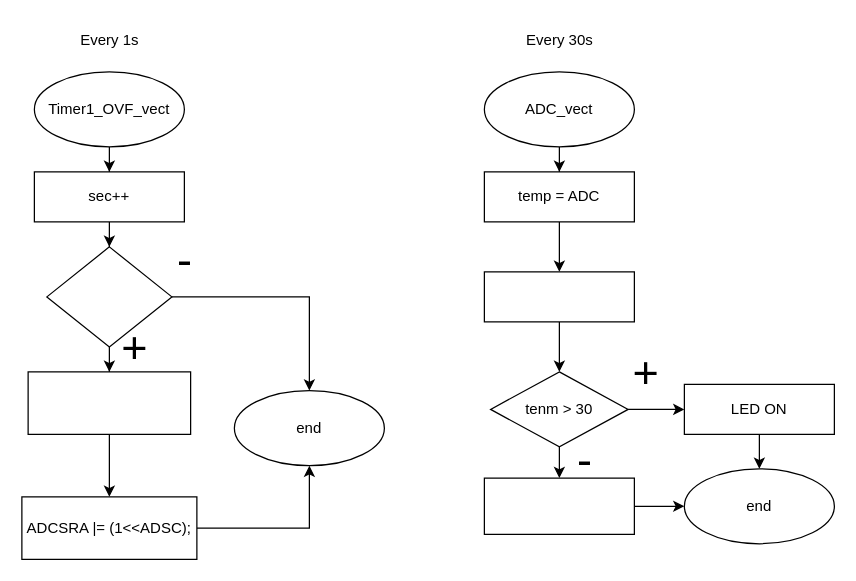
The diagram is 856 pixels wide and 581 high, and some of its shapes have lost their labels. Each missing label, with the centre of its shape:
"display temp" goes at pixel 558 296.
"LED OFF" goes at pixel 558 505.
"sec = 0" goes at pixel 109 402.
"sec > 30" goes at pixel 109 296.
